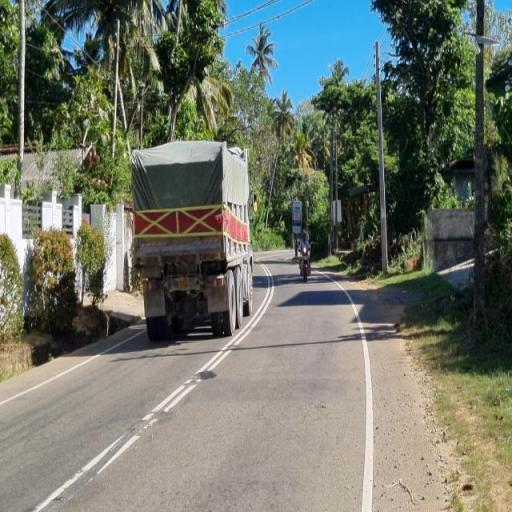double_white_line: (142, 262, 272, 431)
